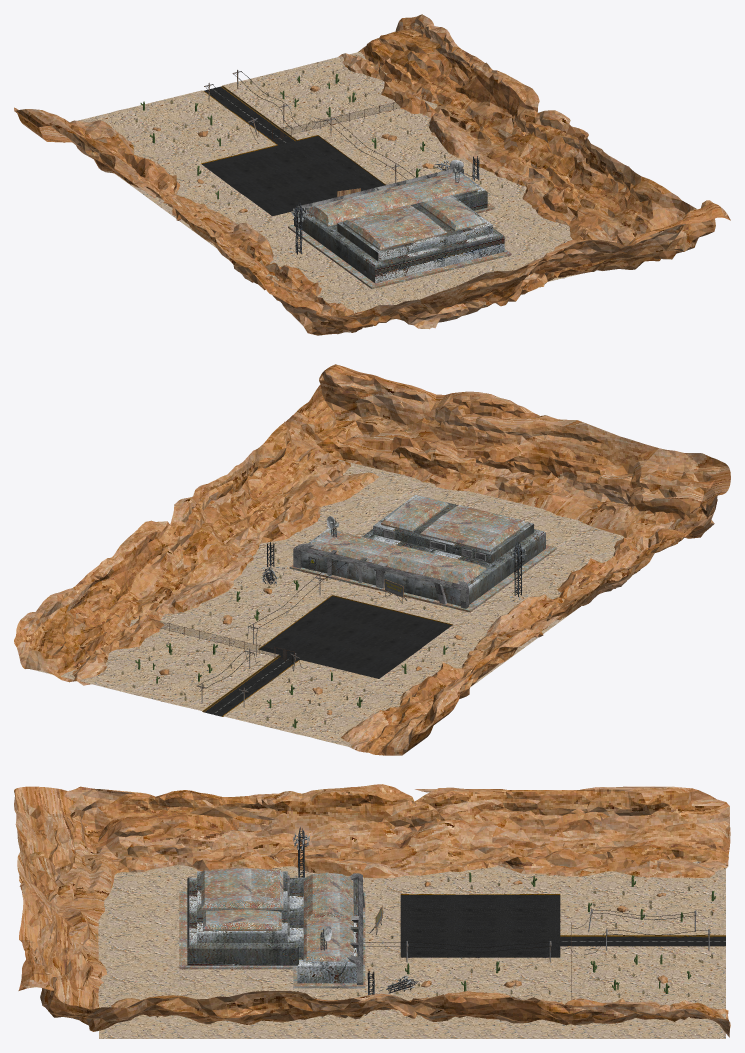
The model's file is outdoor scene.glb.
The picture shows the model from 3 angles, top to bottom: view 1: azimuth 30°, elevation 25°; view 2: azimuth 150°, elevation 25°; view 3: azimuth 270°, elevation 25°; orthographic projection. The views are drawn at different scales.
Parts seen in each view (by area): view 1: mountain, Plane.023, Cube.005, metalfence_one_side_topbar.001; view 2: mountain, Plane.023, Cube.005, metalfence_one_side_topbar.001; view 3: mountain, Plane.023, Cube.005, cable.
Part boxes in pixels (x1=…): mountain: x1=14, y1=14, x2=730, y2=335; Plane.023: x1=70, y1=52, x2=597, y2=320; Cube.005: x1=288, y1=168, x2=511, y2=289; metalfence_one_side_topbar.001: x1=292, y1=95, x2=422, y2=134; mountain: x1=14, y1=364, x2=730, y2=755; Plane.023: x1=31, y1=459, x2=624, y2=749; Cube.005: x1=289, y1=495, x2=556, y2=612; metalfence_one_side_topbar.001: x1=139, y1=616, x2=274, y2=656; mountain: x1=14, y1=784, x2=730, y2=1037; Plane.023: x1=98, y1=861, x2=725, y2=1038; Cube.005: x1=179, y1=867, x2=365, y2=988; cable: x1=363, y1=930, x2=709, y2=958.
Size of the model in its own units: 94.3 by 16.26 by 130.
33 materials, 33 textured.
